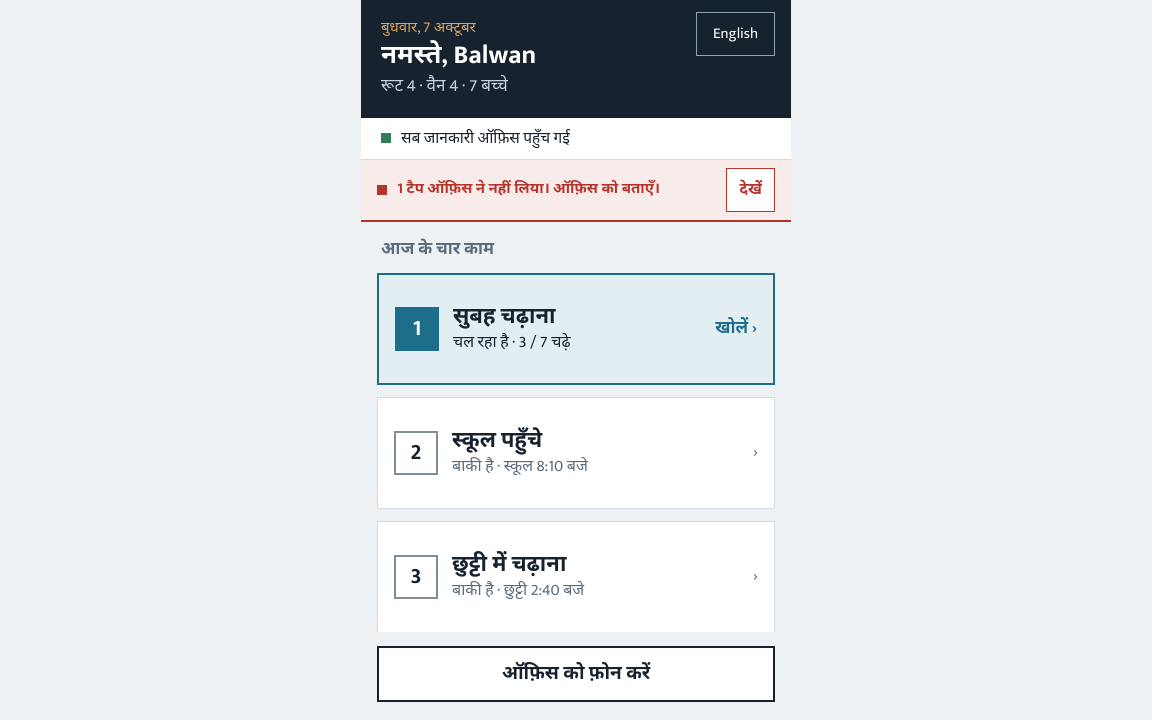
Test: the problems list › shows a red line under the strip, opens the list with the reason in simple Hindi, and clears it
The image size is (1152, 720).
Expected: the heading "आज के चार काम" is shown, [381,235,494,263]
Expected: the text "1 टैप ऑफ़िस ने नहीं लिया। ऑफ़िस को बताएँ।" is shown, [377,180,660,200]
What coordinates should you click on to do the following:
click the button "देखें"
I would click on:
 (751, 190)
Its box is [726,168,775,212].
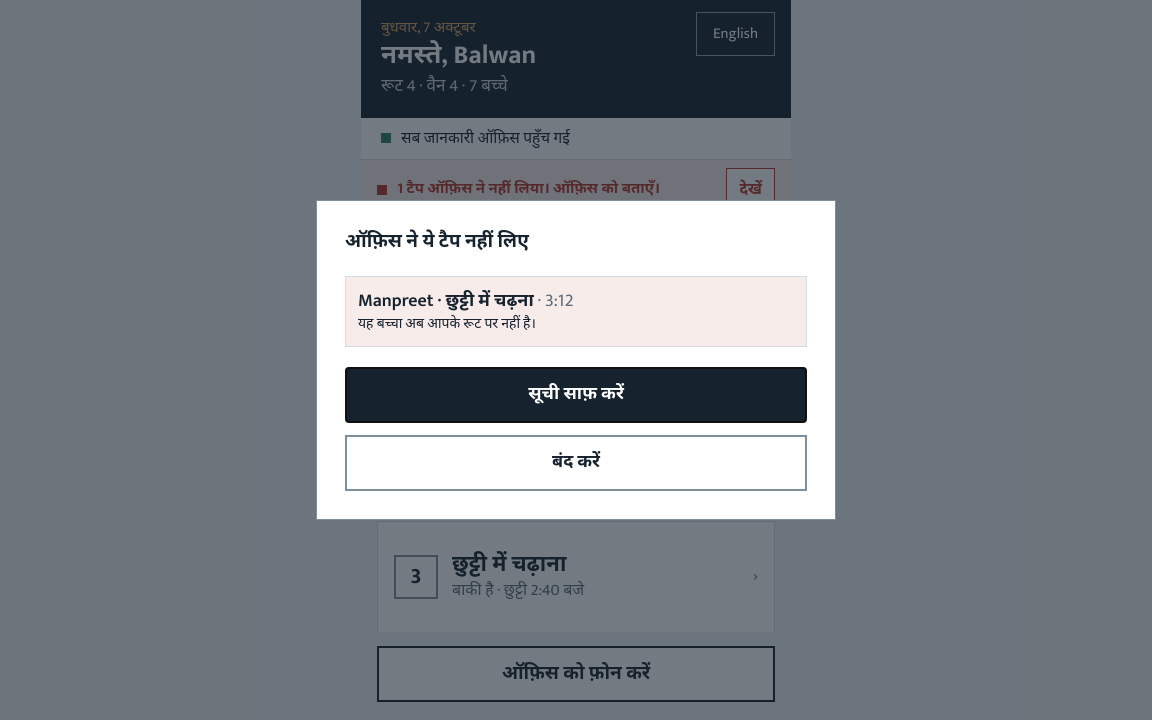
Expected: the text "Manpreet · छुट्टी में चढ़ना · 3:12" is shown, [358,286,574,316]
Expected: the text "· 3:12" is shown, [534,286,574,316]
Expected: the text "यह बच्चा अब आपके रूट पर नहीं है।" is shown, [358,312,536,335]
What coordinates should you click on to do the following:
click the button "सूची साफ़ करें"
I would click on:
 (576, 395)
Its box is [345,367,807,423].
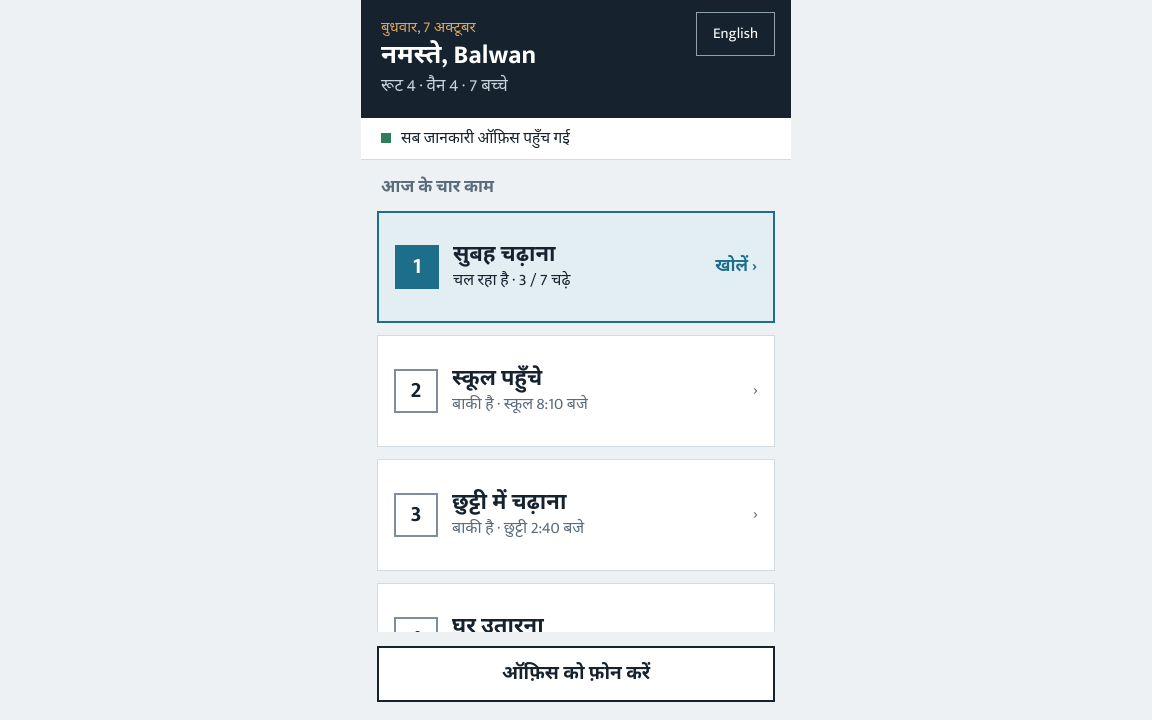
Expected: the dialog is gone
Expected: the text "ऑफ़िस ने नहीं लिया" is gone
